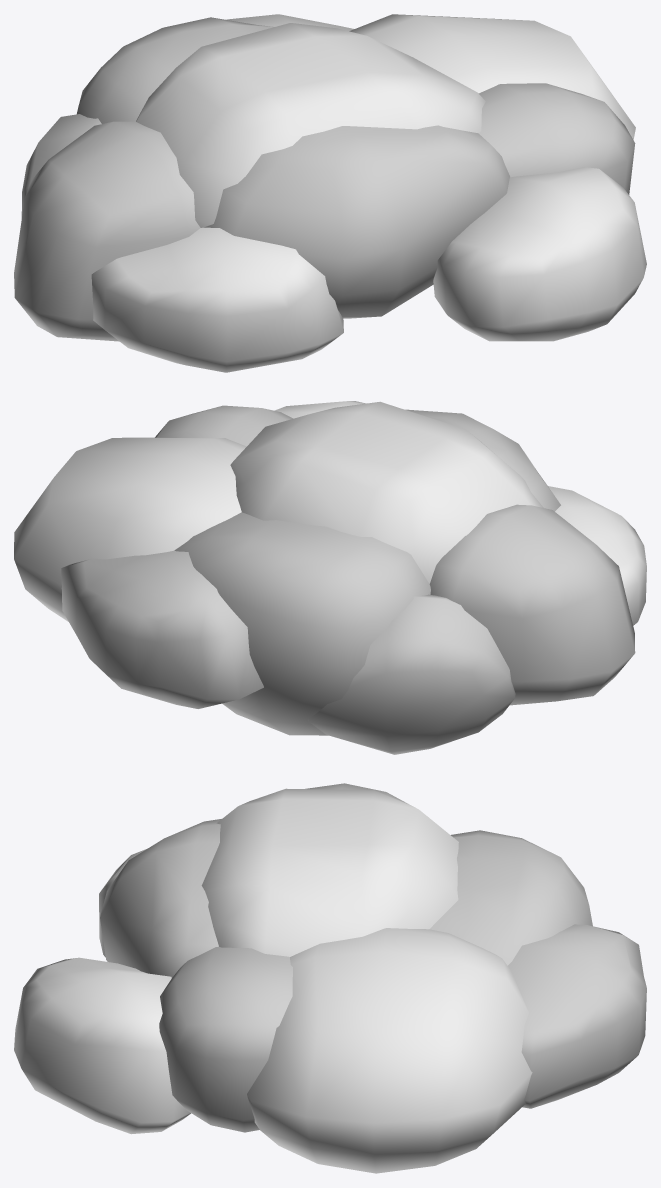
File: Cloud.fbx
3 views of the same model, one above another, from view 1: azimuth 30°, elevation 25°; view 2: azimuth 150°, elevation 25°; view 3: azimuth 270°, elevation 25° (orthographic). The views are drawn at different scales.
Visible parts, largest first — view 1: Kart_Customs_05:Cloud; view 2: Kart_Customs_05:Cloud; view 3: Kart_Customs_05:Cloud.
Boxes of the visible parts, x1=… form: Kart_Customs_05:Cloud: x1=14, y1=14, x2=646, y2=372; Kart_Customs_05:Cloud: x1=14, y1=401, x2=646, y2=754; Kart_Customs_05:Cloud: x1=14, y1=783, x2=646, y2=1173.
Bounding box in the file's own units: 196 × 79.56 × 179.
1 material, 1 textured.
